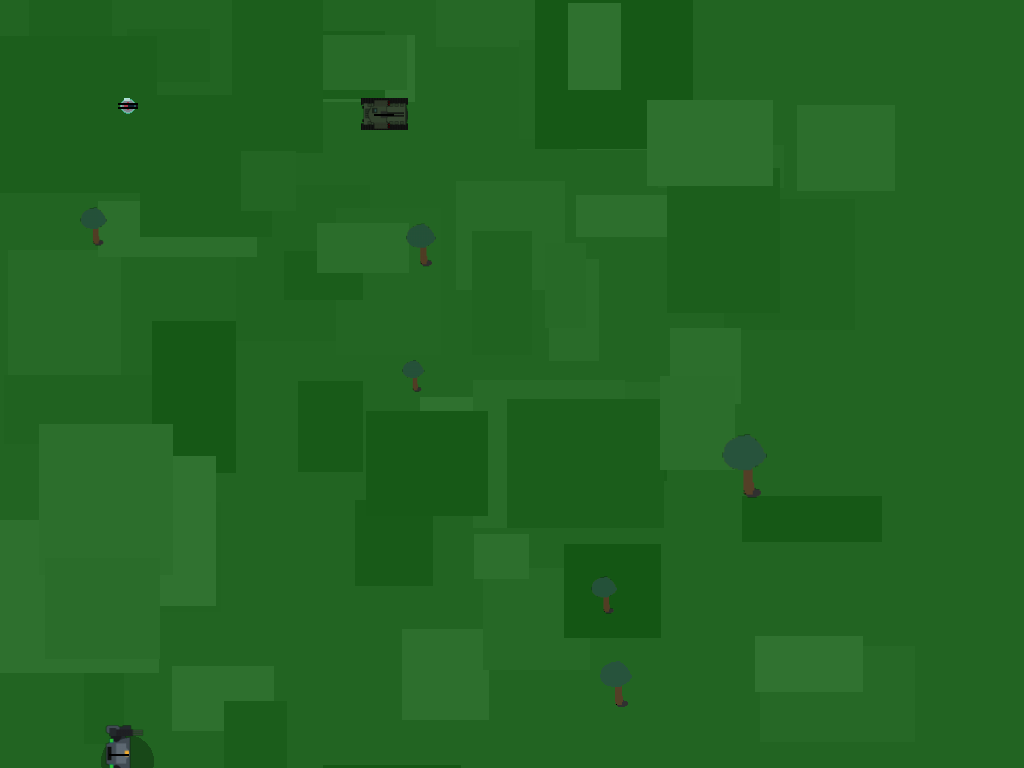HeavyMech: (96, 730, 140, 768)
Shotgunner: (114, 92, 142, 120)
TerminatorIFV: (363, 92, 404, 133)
